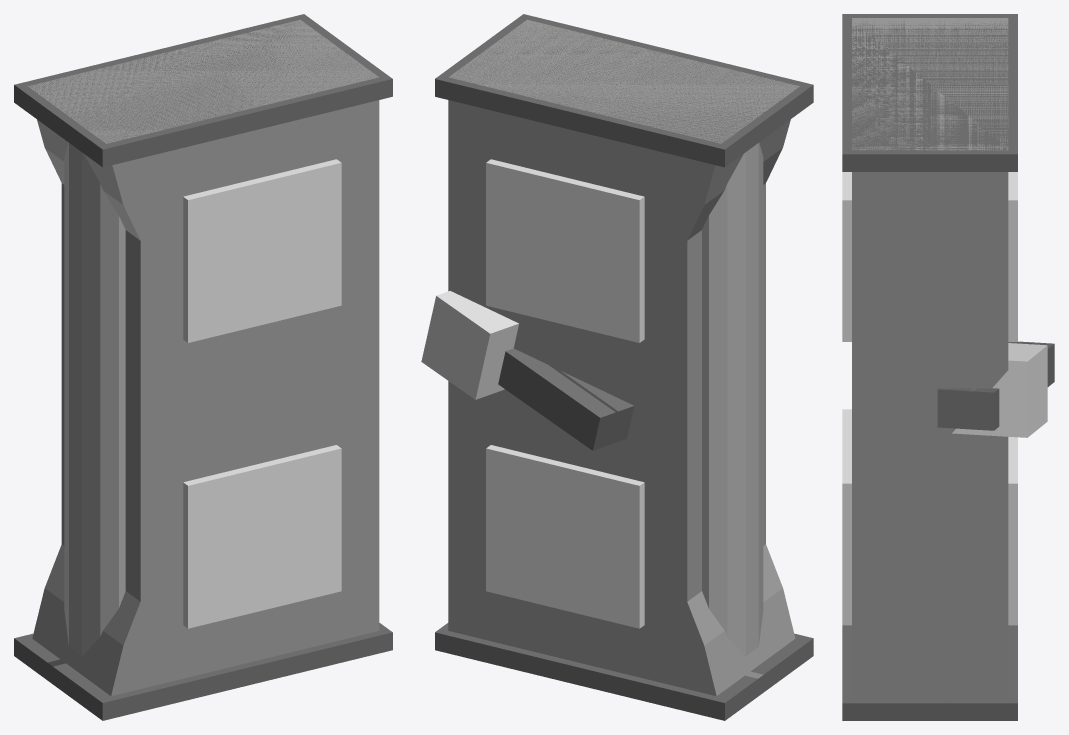
The model's file is Door2.fbx.
3 views of the same model, side by side, from view 1: azimuth 30°, elevation 25°; view 2: azimuth 150°, elevation 25°; view 3: azimuth 270°, elevation 25° (orthographic).
Parts seen in each view (by area): view 1: door, cylinder, ring2, window_1, window, ring1; view 2: door, cylinder, ring2, window, window_1, ring1, handle, door peice; view 3: door, ring2, ring1, handle, window_1, window, door peice.
Boxes of the visible parts, bbox=[...] form: door: bbox=[28, 19, 379, 696]; cylinder: bbox=[64, 142, 125, 655]; ring2: bbox=[14, 14, 392, 167]; window_1: bbox=[183, 445, 341, 628]; window: bbox=[183, 159, 341, 342]; ring1: bbox=[14, 623, 392, 720]; door: bbox=[448, 19, 799, 696]; cylinder: bbox=[702, 142, 763, 656]; ring2: bbox=[435, 14, 813, 167]; window: bbox=[486, 159, 644, 342]; window_1: bbox=[486, 445, 644, 628]; ring1: bbox=[435, 623, 813, 720]; handle: bbox=[421, 291, 518, 399]; door peice: bbox=[498, 348, 634, 450]; door: bbox=[852, 18, 1008, 703]; ring2: bbox=[842, 14, 1017, 171]; ring1: bbox=[842, 625, 1017, 720]; handle: bbox=[952, 343, 1047, 437]; window_1: bbox=[842, 409, 1017, 625]; window: bbox=[842, 172, 1017, 341]; door peice: bbox=[937, 341, 1054, 430].
Bounding box in the file's own units: 112 × 200 × 68.01.
5 materials, 5 textured.
